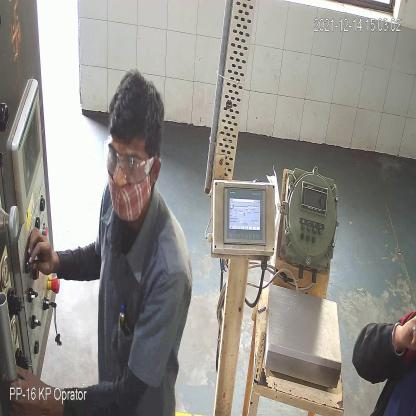goggles: (103, 148, 155, 190)
